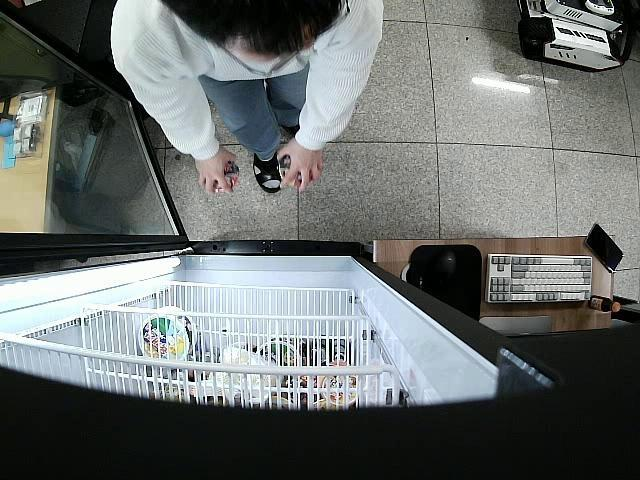08_buldak_S: (278, 154, 314, 190), (214, 161, 238, 194)
